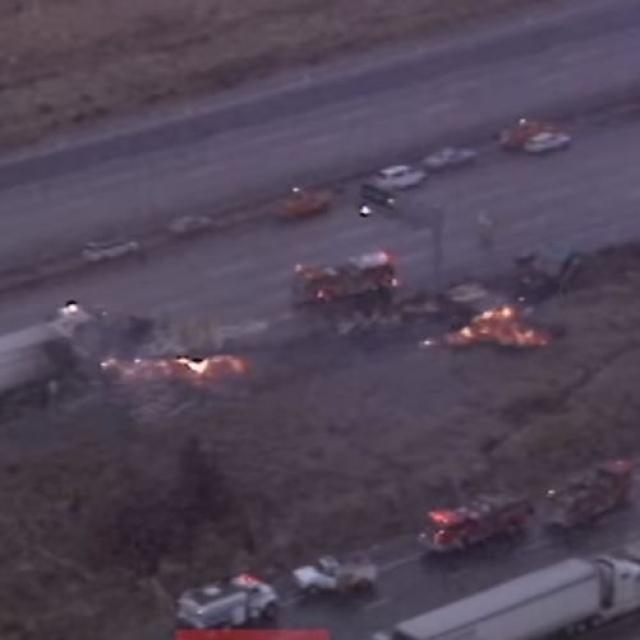traffic_incident: (27, 310, 273, 410), (413, 274, 566, 362)
